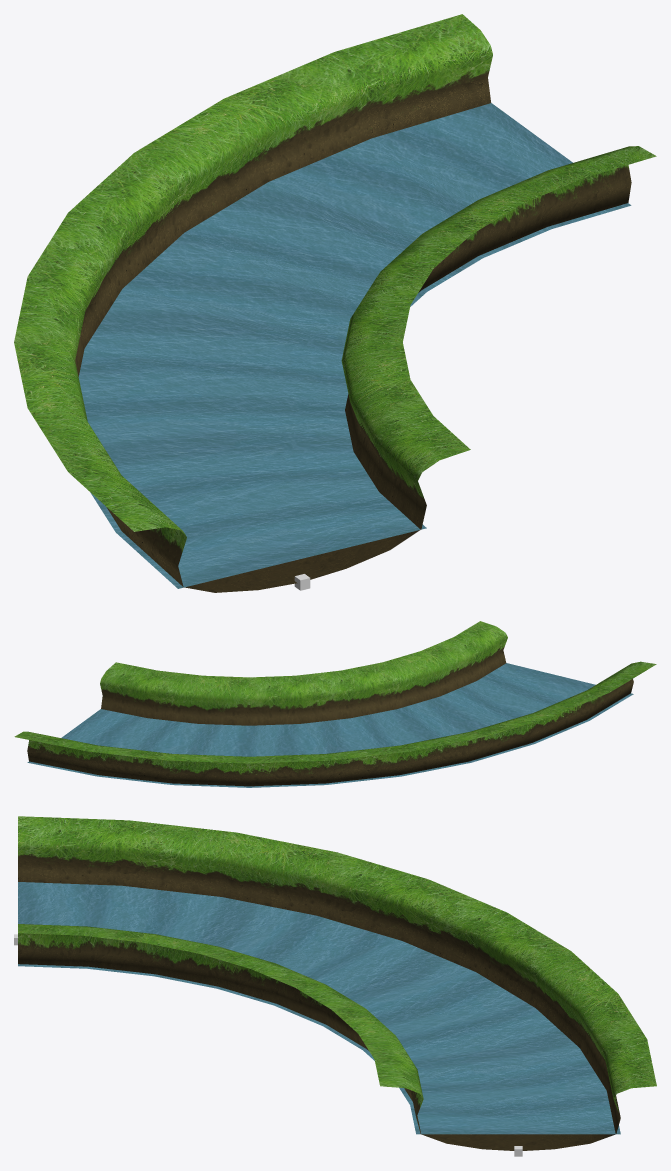
Rendered from roadBend90.R.fbx.
3 renders of one model, top to bottom at view 1: azimuth 30°, elevation 25°; view 2: azimuth 150°, elevation 25°; view 3: azimuth 270°, elevation 25°, orthographic. The views are drawn at different scales.
Parts seen in each view (by area): view 1: MESH roadBend90.R; view 2: MESH roadBend90.R; view 3: MESH roadBend90.R.
Part boxes in pixels (<box>): MESH roadBend90.R: <box>14,14,656,592</box>; MESH roadBend90.R: <box>14,621,656,787</box>; MESH roadBend90.R: <box>18,816,656,1150</box>.
Size of what is drawn, in the model's own units: 3926 by 463 by 3926.
